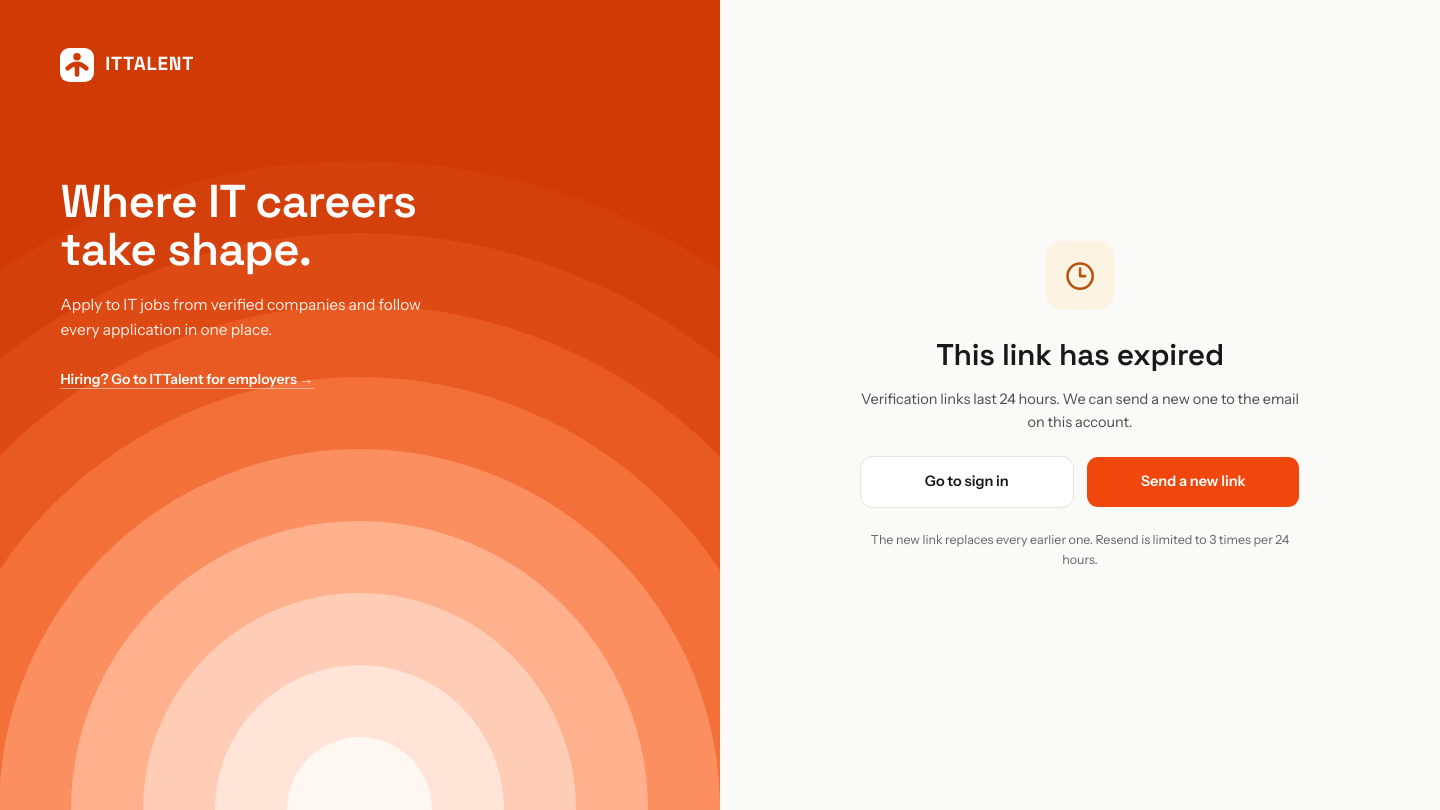
EmailVerificationPage › offers a new link straight away when the expired link comes with an address
The image size is (1440, 810).
Click the button "Send a new link" at (1193, 482), box [1086,456,1300,508]
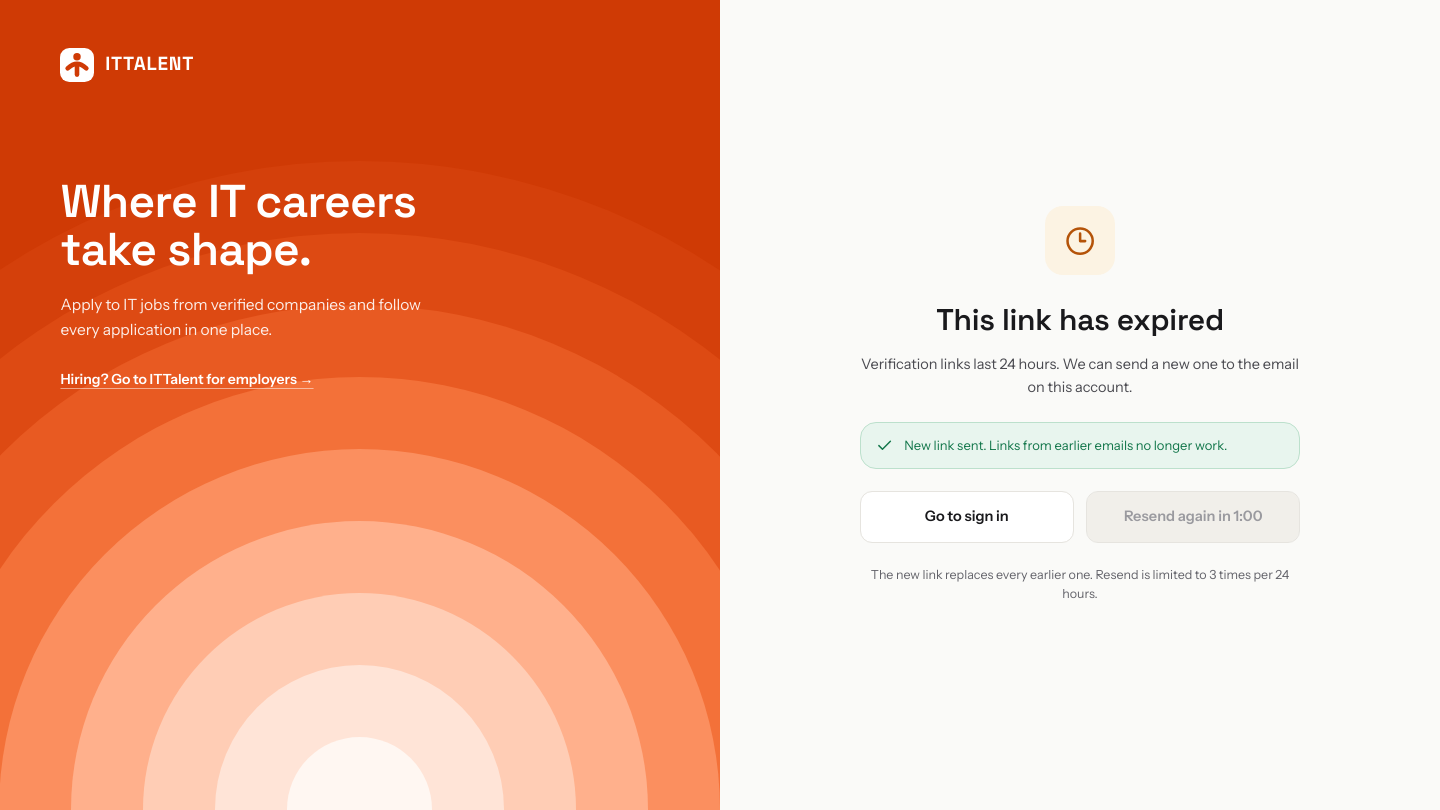
Result: the text "New link sent. Links from earlier emails no longer work." is shown at [904,436,1284,455]
